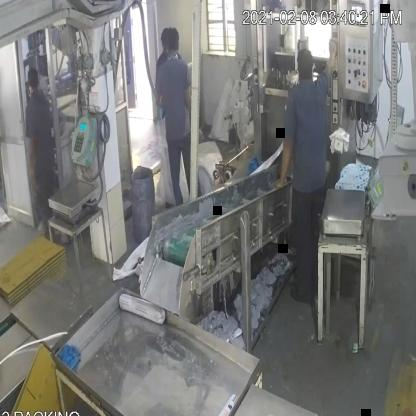no_glove: (272, 134, 300, 189), (326, 31, 344, 82), (28, 134, 42, 190)
